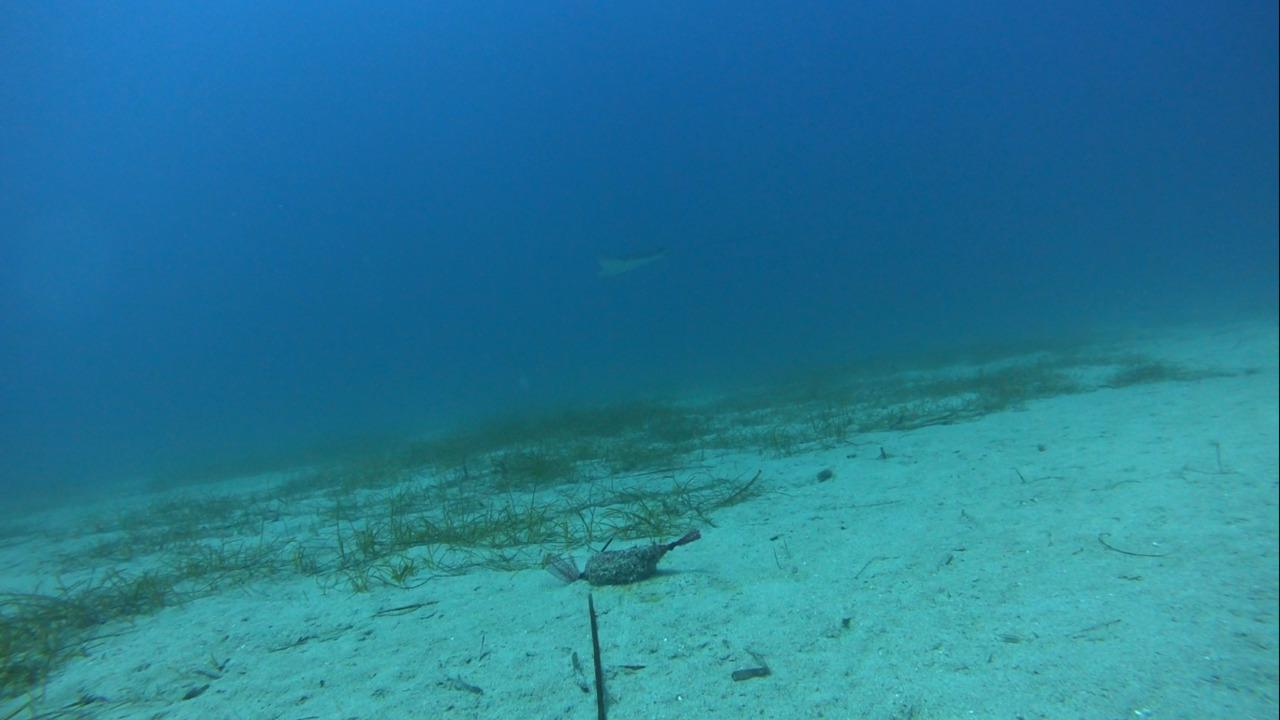myliobatis: (574, 223, 818, 287)
